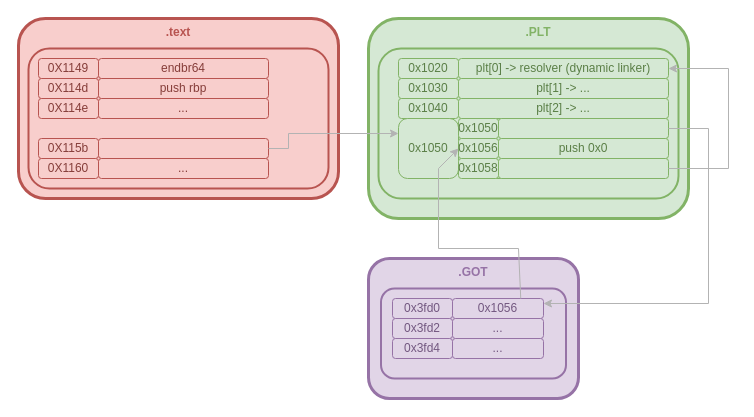
Some shapes in this 754 by 417 pixel diagram are drawn without their labels. The centre of each missing label's shape, as x and y in pixels:
call 0x1050 <puts@plt>: the point at 183,148
jmp 0x1020 {PLT[0]}: the point at 583,168
jmp QWORD PTR[0x3fd0]: the point at 583,128
